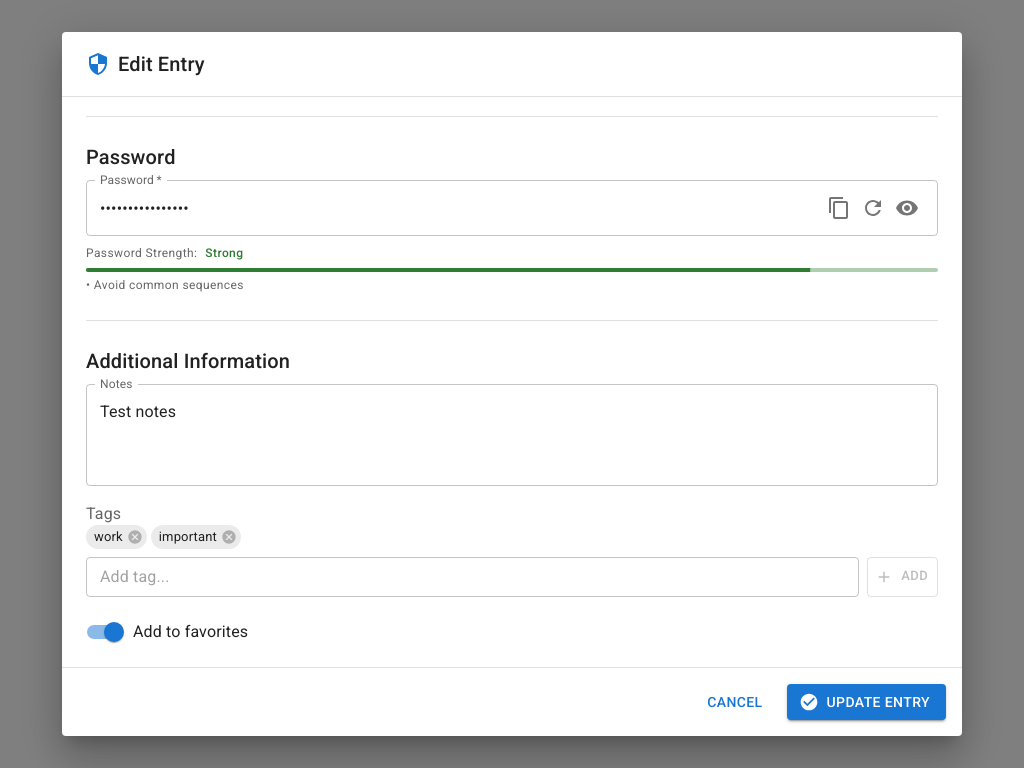
Test: VaultEntryForm › Tags Management › removes tags
The width and height of the screenshot is (1024, 768).
(page scrolled)
Check: the text "work" is shown, box [94,529,123,544]
Note: Find and click the delete button for the work tag
Click the 1st icon with test id "CancelIcon" at (135, 537), box [127,529,143,545]
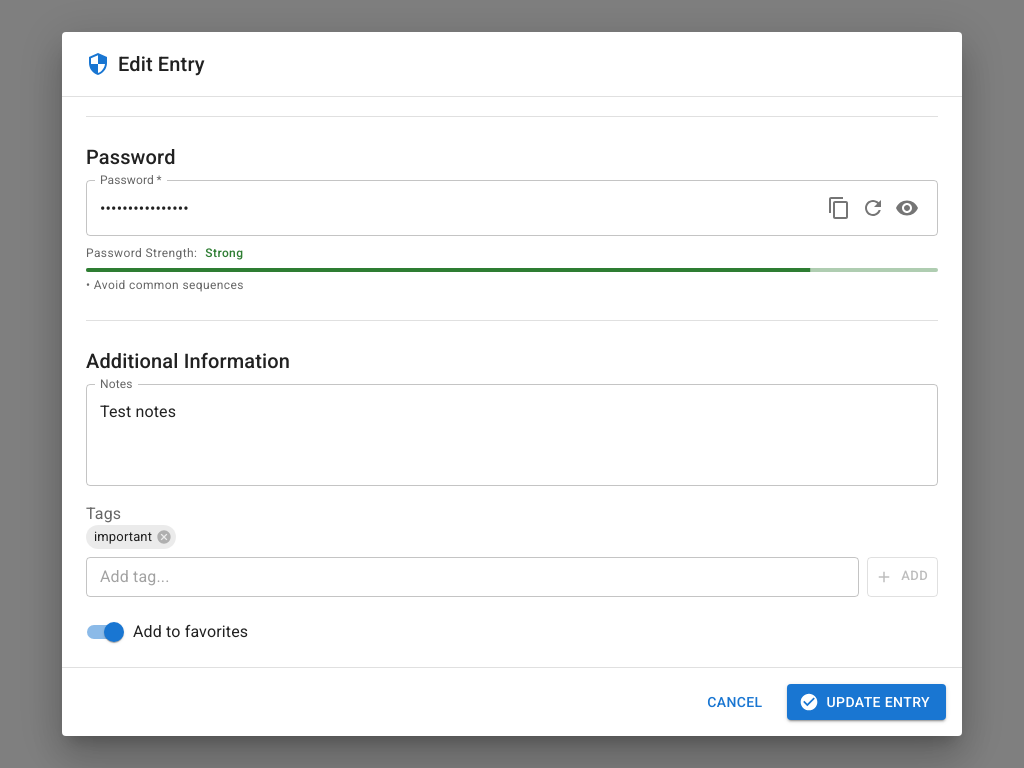
Check: the button "work" is gone
